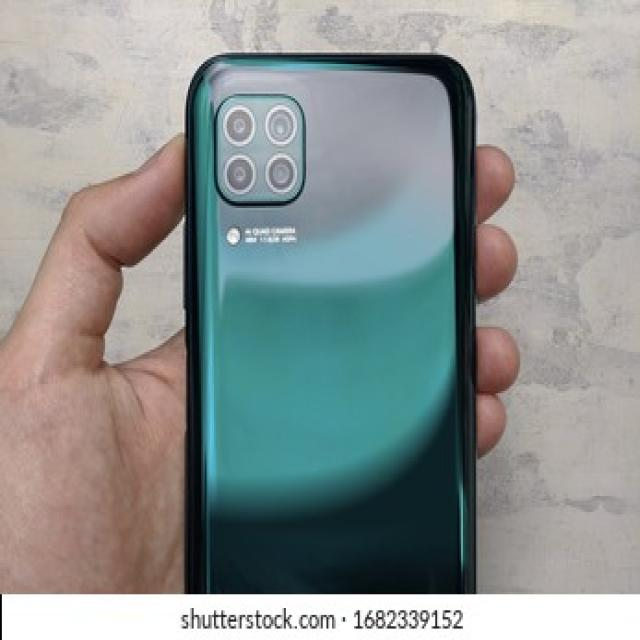mobile_phone: (170, 43, 494, 600)
